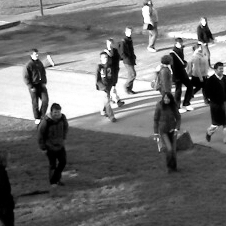person: (37, 102, 69, 186), (154, 87, 182, 172), (23, 48, 49, 124), (186, 40, 212, 111), (205, 61, 226, 144), (95, 51, 116, 120), (103, 38, 124, 107), (170, 36, 187, 112), (120, 26, 137, 95), (196, 16, 215, 74), (1, 158, 17, 225), (141, 1, 159, 53), (157, 54, 173, 101)
